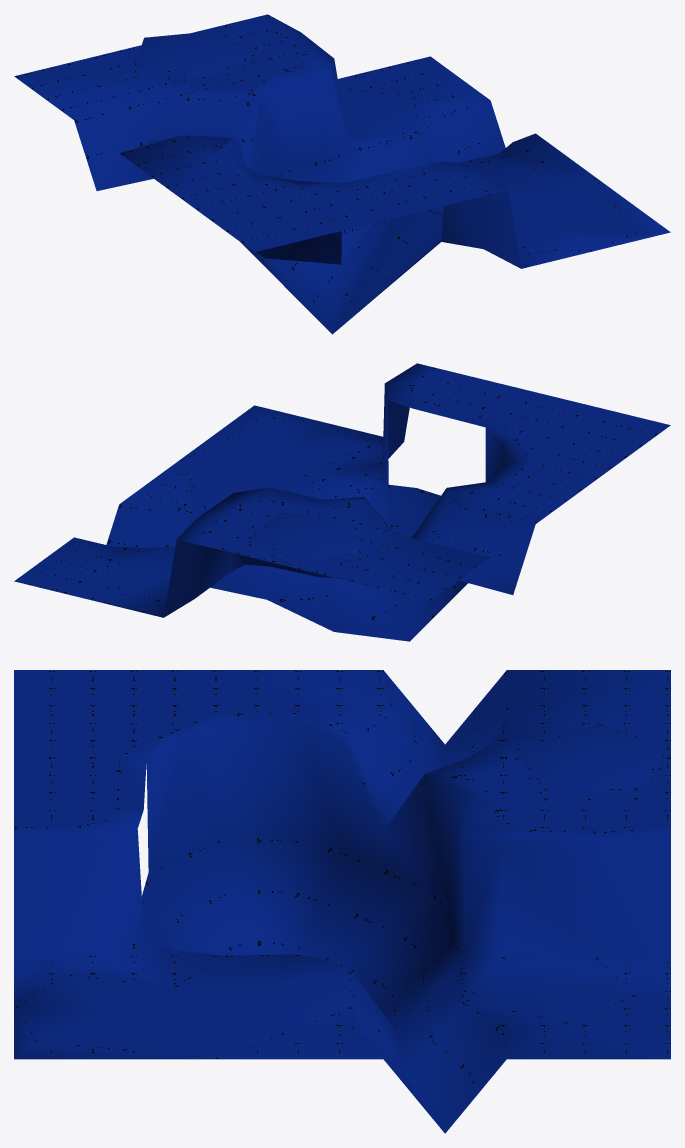
The model's file is GRD_S_C3_R2_2.fbx.
The picture shows the model from 3 angles, top to bottom: view 1: azimuth 30°, elevation 25°; view 2: azimuth 150°, elevation 25°; view 3: azimuth 270°, elevation 25°; orthographic projection. The views are drawn at different scales.
Visible parts, largest first — view 1: material_00022000, material_C0042000, material_00032000, material_C0052000, material_C0012000, material_C0062000; view 2: material_00022000, material_C0042000, material_00032000, material_C0052000, material_C0012000, material_C0062000; view 3: material_00032000, material_00022000, material_C0042000, material_C0052000, material_C0012000, material_C0062000.
Part boxes in pixels (bbox=[...]): material_00022000: bbox=[14, 19, 670, 268]; material_C0042000: bbox=[74, 97, 505, 334]; material_00032000: bbox=[210, 14, 521, 268]; material_C0052000: bbox=[340, 88, 636, 251]; material_C0012000: bbox=[134, 30, 255, 78]; material_C0062000: bbox=[134, 58, 255, 85]; material_00022000: bbox=[14, 368, 670, 617]; material_C0042000: bbox=[106, 484, 535, 641]; material_00032000: bbox=[163, 363, 532, 617]; material_C0052000: bbox=[105, 417, 361, 597]; material_C0012000: bbox=[248, 513, 362, 562]; material_C0062000: bbox=[248, 541, 362, 569]; material_00032000: bbox=[14, 712, 670, 959]; material_00022000: bbox=[14, 670, 670, 1059]; material_C0042000: bbox=[142, 670, 508, 1133]; material_C0052000: bbox=[14, 954, 637, 1059]; material_C0012000: bbox=[513, 723, 670, 791]; material_C0062000: bbox=[513, 755, 670, 800].
Bounding box in the file's own units: 12800 × 6000 × 12800.
